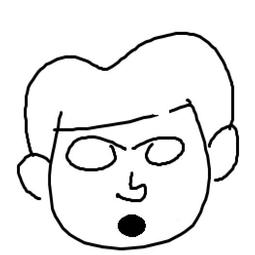ear: (12, 153, 58, 203)
empty_eye: (64, 134, 120, 173), (136, 127, 185, 169)
large_ear: (198, 120, 246, 189)
nose: (115, 169, 151, 205)
open_mouth: (114, 212, 152, 240)
